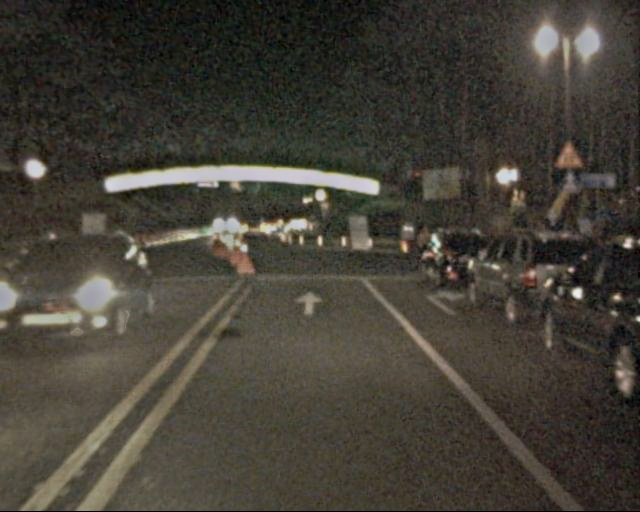person: (397, 219, 418, 271), (415, 226, 436, 277)
